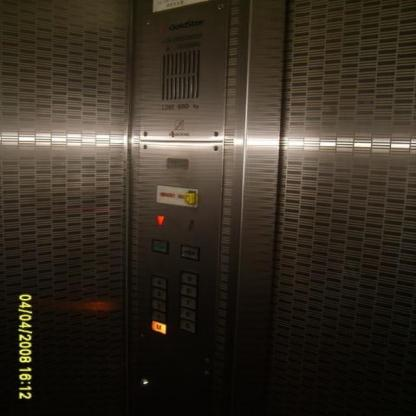1: (150, 308, 167, 322)
2: (150, 297, 167, 311)
4: (150, 274, 167, 288)
6: (178, 304, 198, 322)
7: (178, 294, 198, 310)
9: (178, 270, 198, 286)
M: (150, 318, 167, 334)
alarm: (183, 190, 196, 206)
blur: (178, 242, 200, 260), (178, 316, 198, 334), (149, 237, 168, 254), (178, 282, 198, 296), (150, 287, 167, 300), (136, 376, 153, 388)
